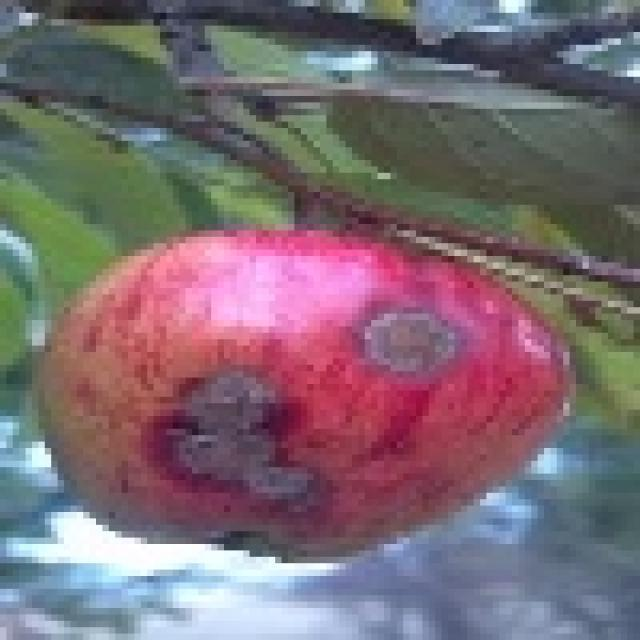Apple: (32, 224, 576, 557)
